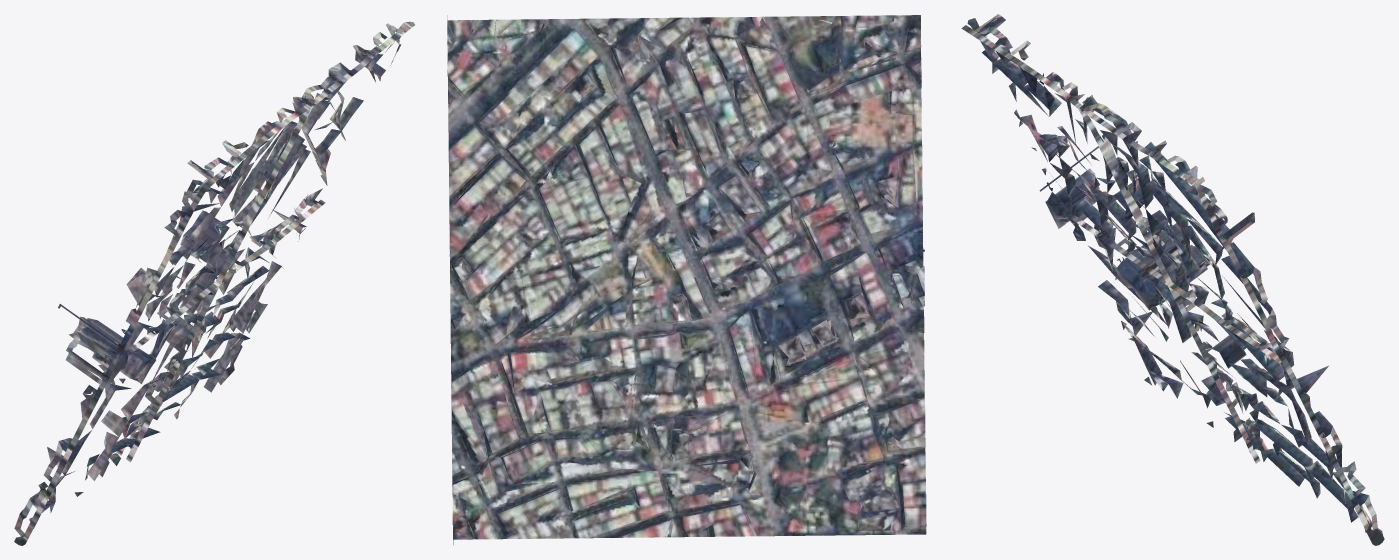
3 views of the same model, side by side, from view 1: azimuth 30°, elevation 25°; view 2: azimuth 150°, elevation 25°; view 3: azimuth 270°, elevation 25° (orthographic). The views are drawn at different scales.
Size of the model in its own units: 621 by 573 by 526.
1 material, 1 textured.
